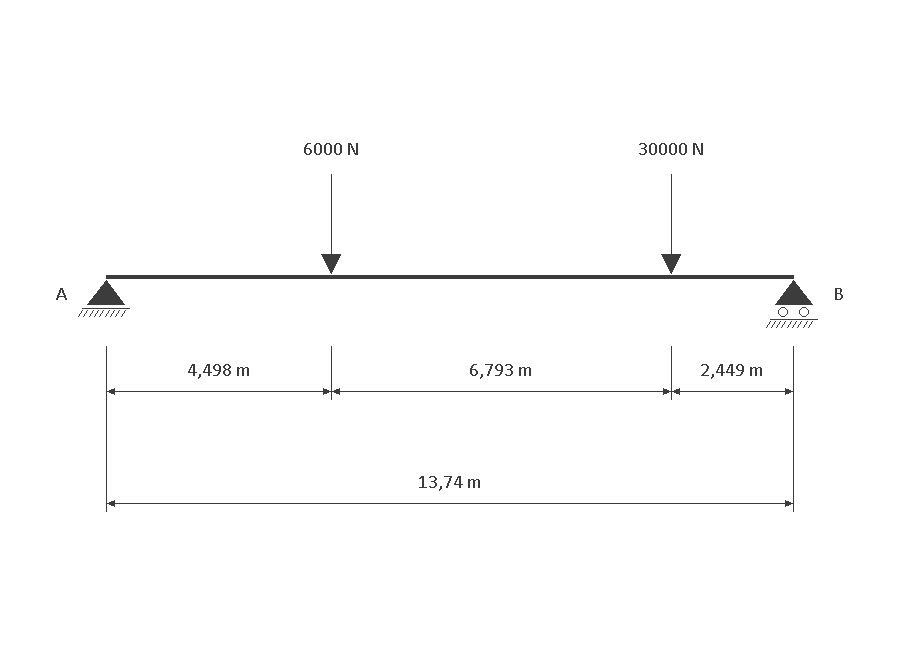pin_support: (78, 280, 130, 317)
point_load: (321, 174, 341, 274), (661, 174, 681, 274)
roller_support: (766, 280, 818, 328)
